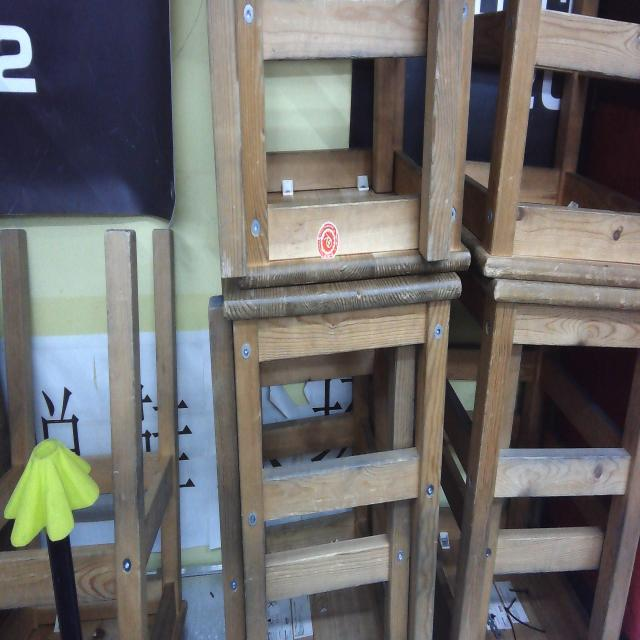Yellow-Stake-Head: (4, 438, 100, 546)
